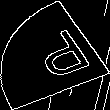P_SE: (17, 24, 93, 86)
